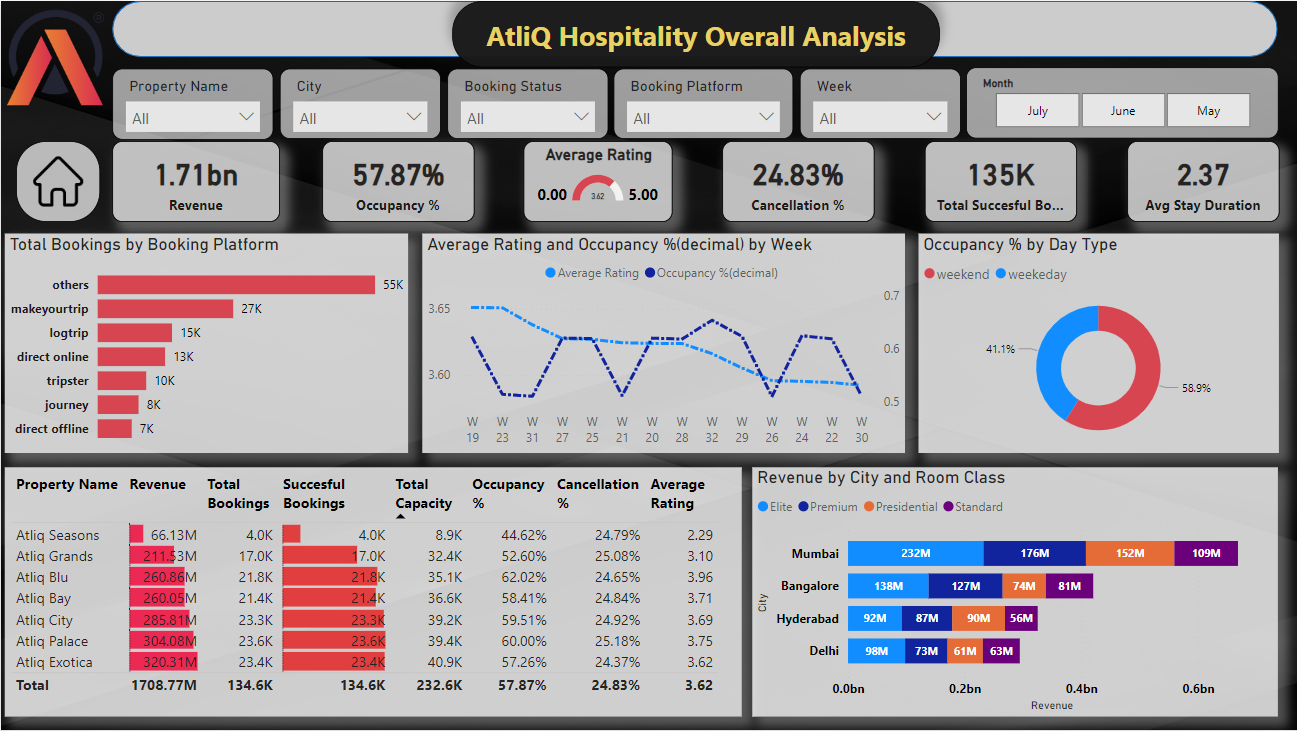

What the dashboard file says about the page in this screenshot:
{"tool":"powerbi","page":{"name":"Overall Analysis","canvas":[1280,720],"ordinal":1},"visuals":[{"type":"shape","box":[110.4,0,1150.9,55.2],"z":0},{"type":"image","box":[0,0,110,110],"z":1000},{"type":"slicer","fields":{"Values":["dim_hotels.property_name"]},"box":[110.4,66.3,159.5,70],"z":2000},{"type":"slicer","fields":{"Values":["dim_hotels.city"]},"box":[275.3,66.3,159.5,69.9],"z":3000},{"type":"slicer","fields":{"Values":["fact_bookings.booking_status"]},"box":[440.2,66.3,159.5,69.9],"z":4000},{"type":"slicer","fields":{"Values":["fact_bookings.booking_platform"]},"box":[605.2,66.3,177.9,69.9],"z":5000},{"type":"slicer","fields":{"Values":["dim_date.Week"]},"box":[788.5,66.3,159.5,69.9],"z":6000},{"type":"slicer","fields":{"Values":["dim_date.Month"]},"box":[952.9,65.7,308.6,70],"z":7000},{"type":"card","fields":{"Values":["Key Measure.Revenue"]},"box":[110,138.6,165.7,80],"z":8000},{"type":"card","fields":{"Values":["Key Measure.Occupancy %"]},"box":[316.7,138.6,150,80],"z":9000},{"type":"gauge","fields":{"Y":["Key Measure.Average Rating"]},"box":[516.2,138.6,147.1,80],"z":10000},{"type":"card","fields":{"Values":["Key Measure.Cancellation %"]},"box":[712.9,138.6,150,80],"z":11000},{"type":"card","fields":{"Values":["Key Measure.Total Succesful Bookings"]},"box":[912.5,138.6,150,80],"z":12000},{"type":"card","fields":{"Values":["Key Measure.AverageStaysOfDays"]},"box":[1112,138.9,150,80],"z":13000},{"type":"clusteredBarChart","fields":{"Category":["fact_bookings.booking_platform"],"Y":["Key Measure.Total Bookings"]},"box":[4.3,230,398.6,217.1],"z":14000},{"type":"tableEx","fields":{"Values":["dim_hotels.property_name","Key Measure.Revenue","Key Measure.Total Bookings","Key Measure.Total Succesful Bookings","Key Measure.Total Capacity","Key Measure.Occupancy %","Key Measure.Cancellation %","Key Measure.Average Rating"]},"box":[3.7,460.1,727.6,246.6],"z":15000},{"type":"lineChart","fields":{"Category":["dim_date.Week"],"Y":["Key Measure.Average Rating"],"Y2":["Key Measure.Occupancy %(decimal)"]},"box":[415.7,230,477.1,217.1],"z":16000},{"type":"donutChart","fields":{"Y":["Key Measure.Occupancy %"],"Category":["dim_date.day_type"]},"box":[905.7,230,355.7,217.1],"z":17000},{"type":"barChart","fields":{"Y":["Key Measure.Revenue"],"Category":["dim_hotels.city"],"Series":["dim_rooms.room_class"]},"box":[742.3,460.1,519,246.6],"z":18000},{"type":"textbox","box":[445.7,0,481.4,65.7],"z":19000},{"type":"image","box":[14.3,138.6,82.9,80],"z":20000}]}

Visuals, with their boxes in screenshot pixels (x1, y1, x2, y2), scaled from the page's 1280x720 canvas onto the 1297x731 screenshot:
shape: [left=112, top=0, right=1278, bottom=56]
image: [left=0, top=0, right=111, bottom=112]
slicer - dim_hotels.property_name: [left=112, top=67, right=273, bottom=138]
slicer - dim_hotels.city: [left=279, top=67, right=441, bottom=138]
slicer - fact_bookings.booking_status: [left=446, top=67, right=608, bottom=138]
slicer - fact_bookings.booking_platform: [left=613, top=67, right=794, bottom=138]
slicer - dim_date.Week: [left=799, top=67, right=961, bottom=138]
slicer - dim_date.Month: [left=966, top=67, right=1278, bottom=138]
card - Key Measure.Revenue: [left=111, top=141, right=279, bottom=222]
card - Key Measure.Occupancy %: [left=321, top=141, right=473, bottom=222]
gauge - Key Measure.Average Rating: [left=523, top=141, right=672, bottom=222]
card - Key Measure.Cancellation %: [left=722, top=141, right=874, bottom=222]
card - Key Measure.Total Succesful Bookings: [left=925, top=141, right=1077, bottom=222]
card - Key Measure.AverageStaysOfDays: [left=1127, top=141, right=1279, bottom=222]
clusteredBarChart - fact_bookings.booking_platform x Key Measure.Total Bookings: [left=4, top=234, right=408, bottom=454]
tableEx - dim_hotels.property_name x Key Measure.Revenue: [left=4, top=467, right=741, bottom=717]
lineChart - dim_date.Week x Key Measure.Average Rating: [left=421, top=234, right=905, bottom=454]
donutChart - Key Measure.Occupancy % x dim_date.day_type: [left=918, top=234, right=1278, bottom=454]
barChart - Key Measure.Revenue x dim_hotels.city: [left=752, top=467, right=1278, bottom=717]
textbox: [left=452, top=0, right=939, bottom=67]
image: [left=14, top=141, right=98, bottom=222]
